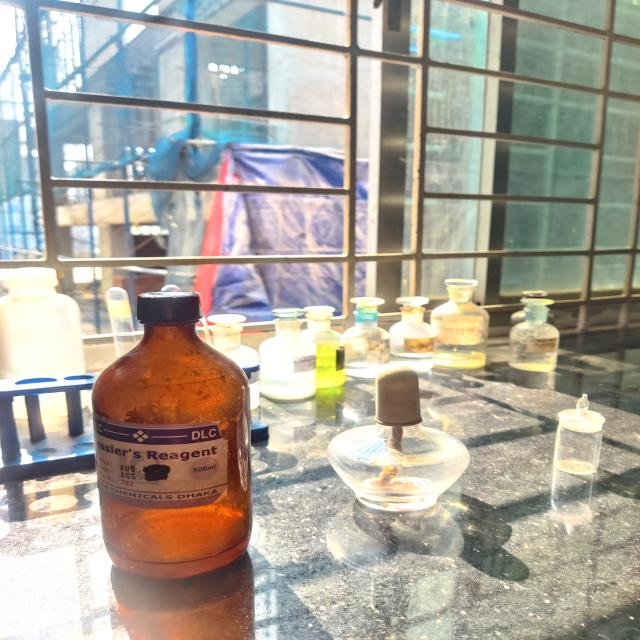Nessler_Reagent_Bottle: (75, 275, 275, 602)
Spirit_Lamp: (314, 357, 491, 536)
Weighing_Bottle: (540, 380, 627, 506)
